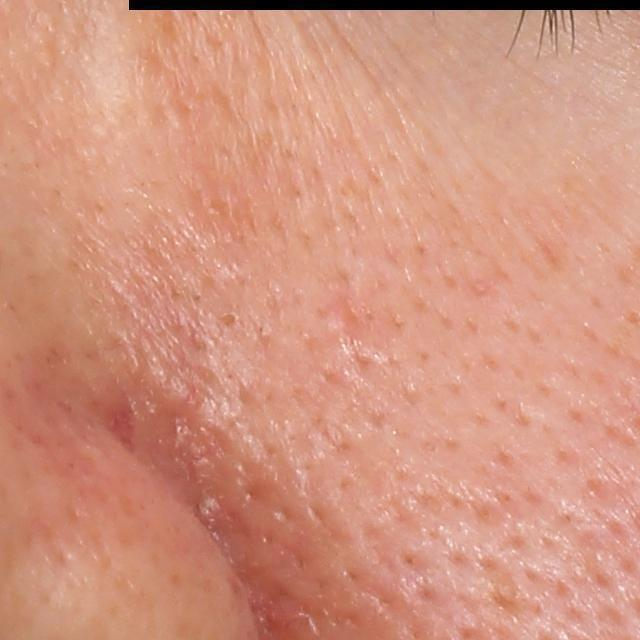comedo: (218, 311, 239, 330)
